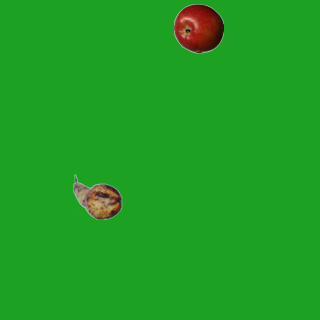Apple Braeburn: (173, 3, 223, 53)
Pear Abate: (72, 172, 122, 222)
